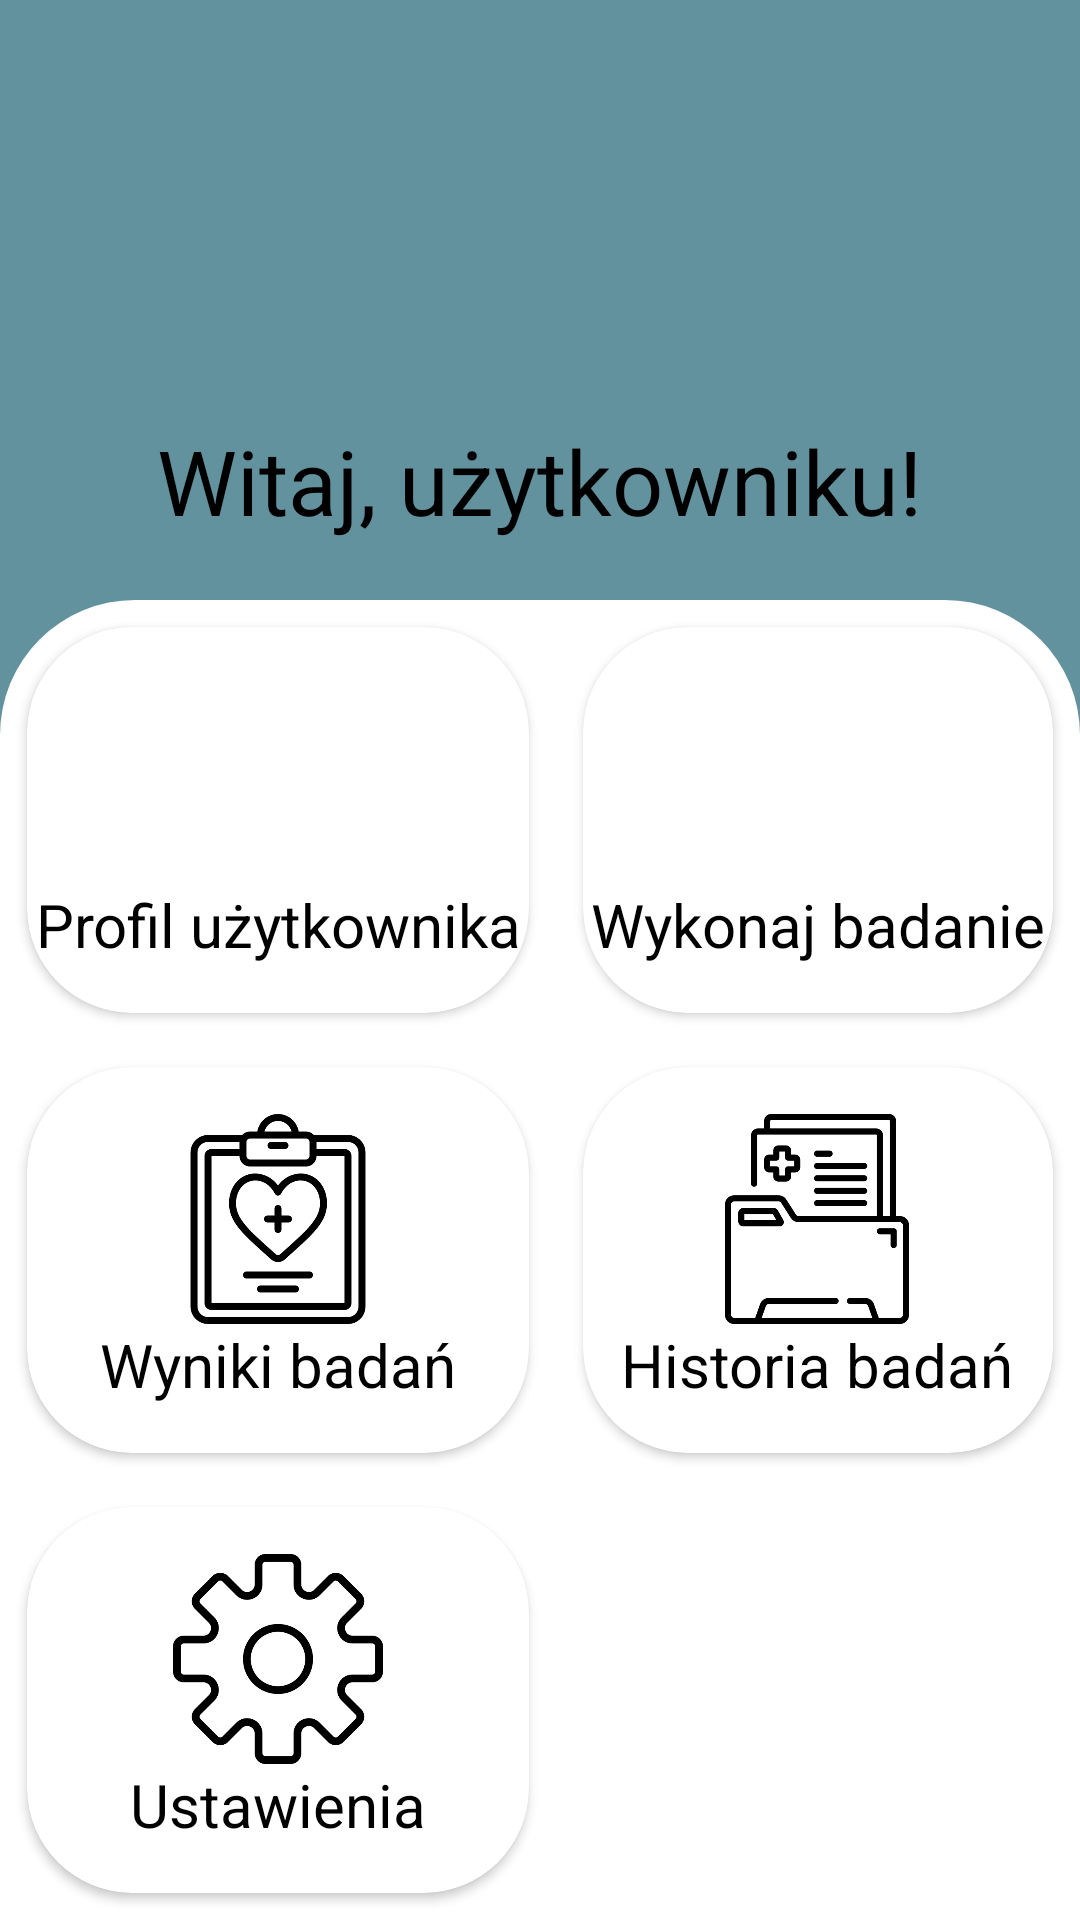

Screen size 1080×1920. Icon name, then its center in pixels as (x=x, y=y):
medicalfolder: (x=817, y=1219)
